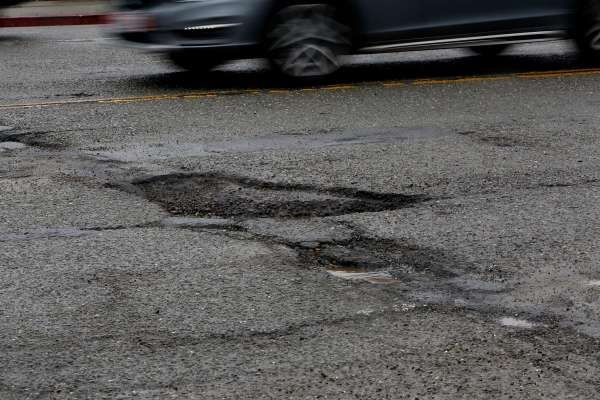pothole: (121, 117, 430, 238), (323, 233, 476, 299), (488, 297, 558, 347)
